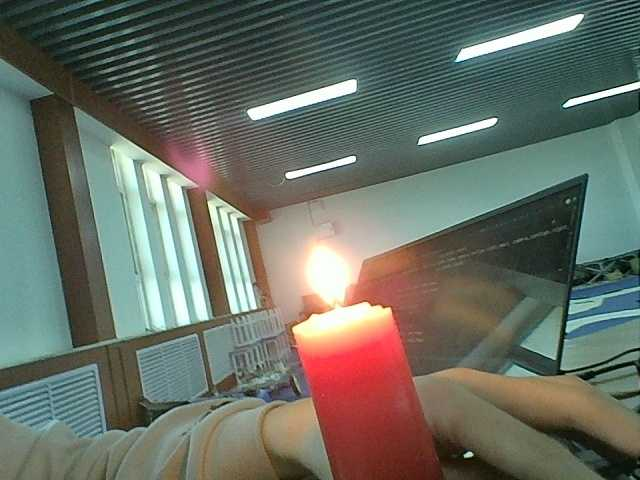candle: (283, 310, 453, 480)
fire: (294, 237, 360, 317)
